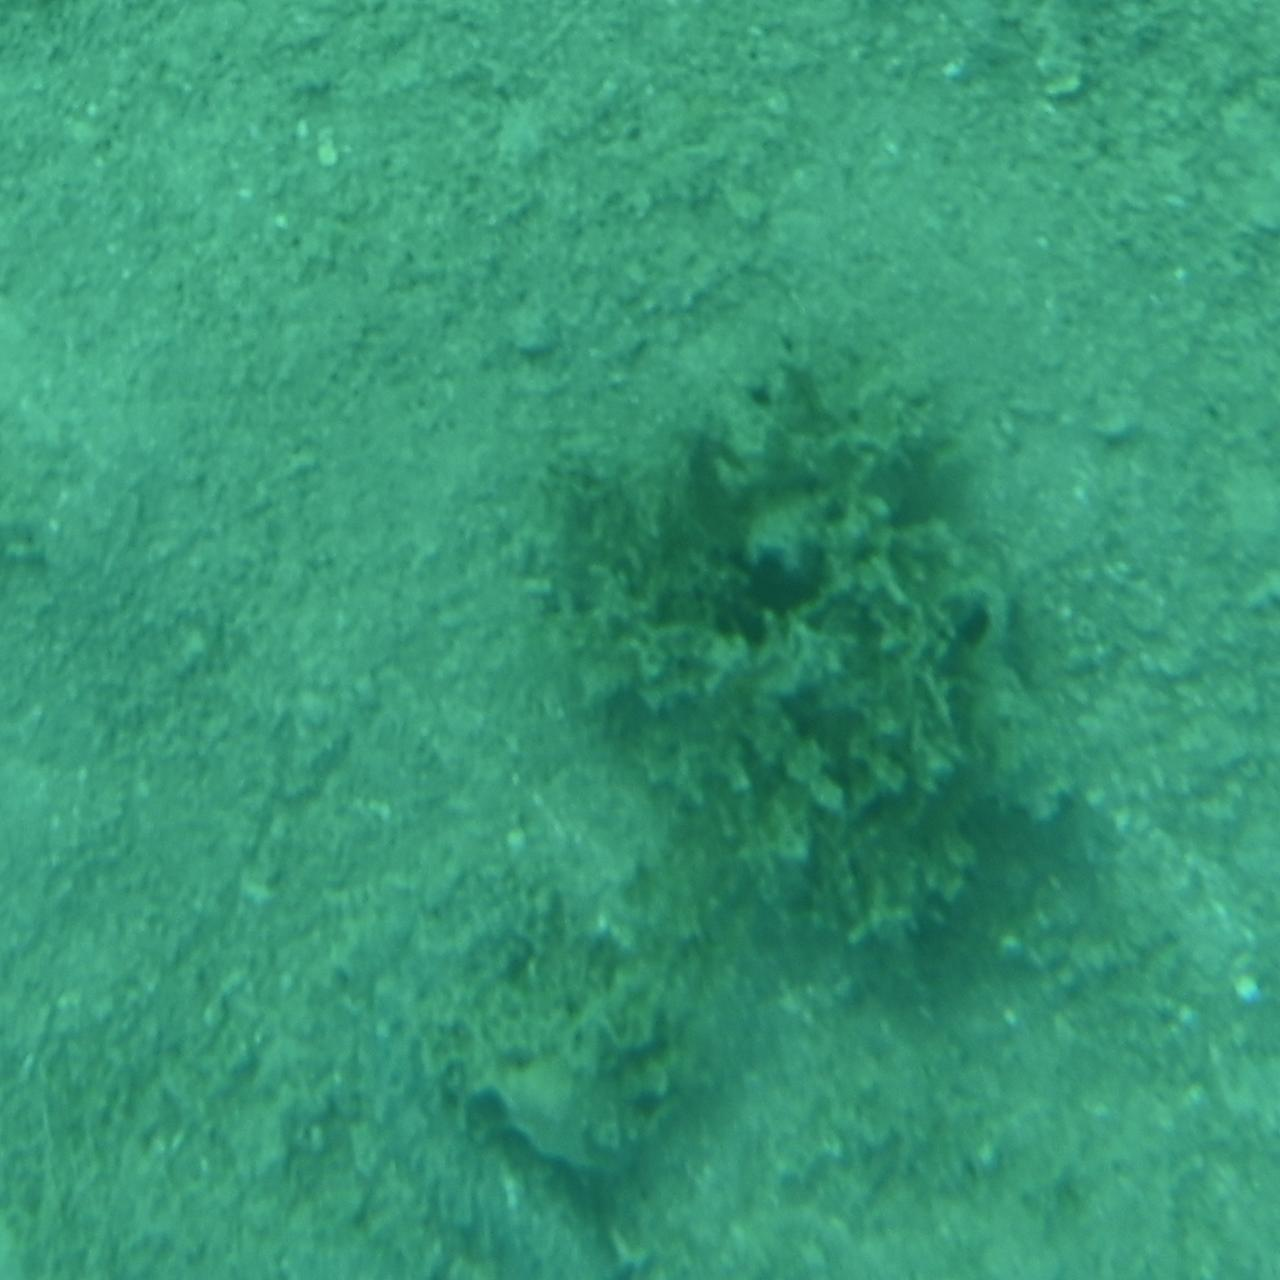Holothuria tubulosa: (295, 1047, 710, 1279)
Phaeophyceae -cfr Cystoseira-: (522, 355, 1032, 1035)
